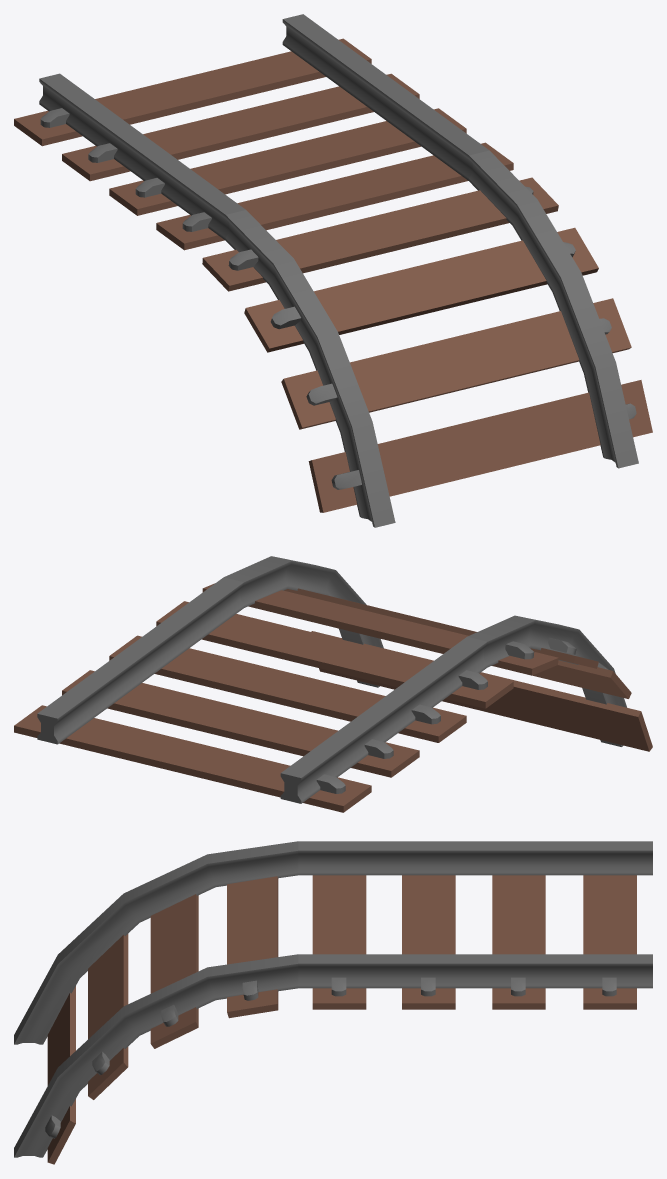
Rendered from Trilho_curvo_DOWN.fbx.
3 views of the same model, one above another, from view 1: azimuth 30°, elevation 25°; view 2: azimuth 150°, elevation 25°; view 3: azimuth 270°, elevation 25° (orthographic). The views are drawn at different scales.
Visible parts, largest first — view 1: Trilho_curvo_down; view 2: Trilho_curvo_down; view 3: Trilho_curvo_down.
Part boxes in pixels (x1=…): Trilho_curvo_down: x1=14, y1=14, x2=652, y2=527; Trilho_curvo_down: x1=14, y1=556, x2=652, y2=812; Trilho_curvo_down: x1=14, y1=841, x2=652, y2=1164.
Size of the model in its own units: 203 by 120 by 358.
